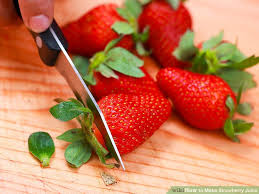strawberry: (154, 64, 242, 137), (86, 91, 173, 163), (57, 4, 137, 58), (139, 2, 196, 71)
